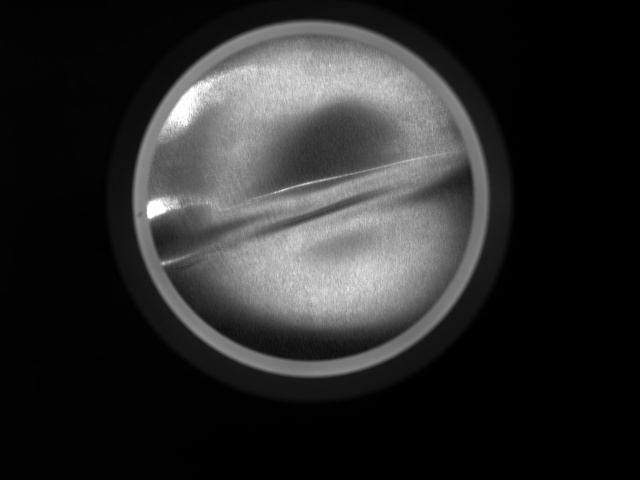zhe_zhou: (192, 65, 427, 336)
